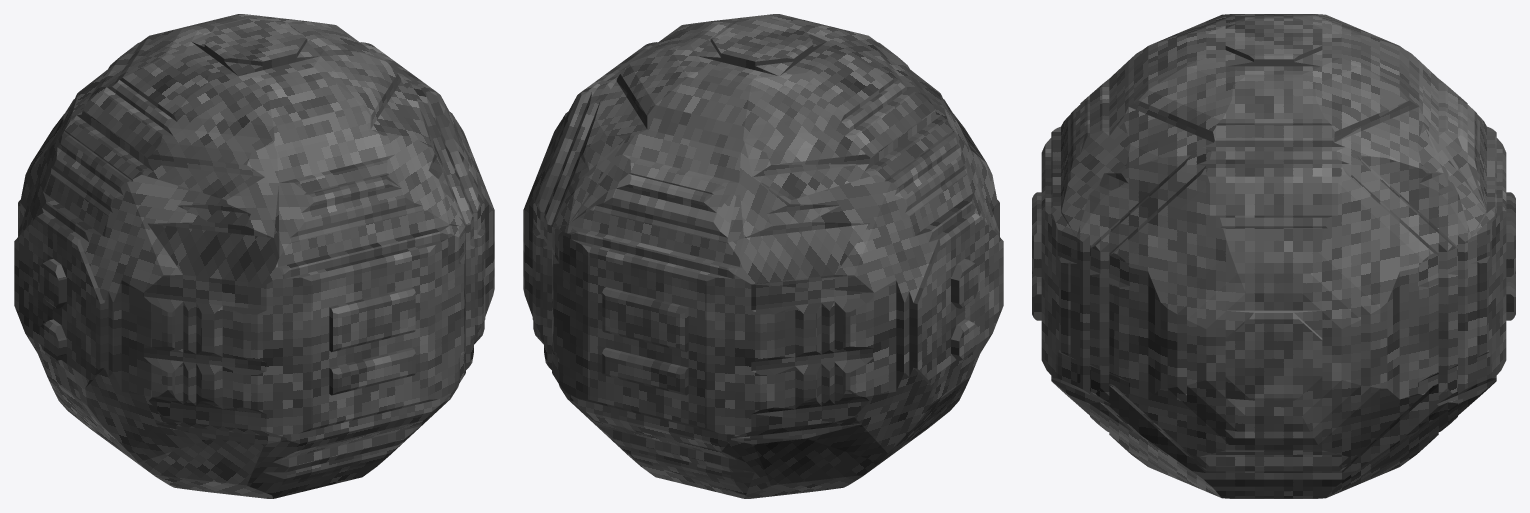
File: large boulder.glb
The picture shows the model from 3 angles, left to right: view 1: azimuth 30°, elevation 25°; view 2: azimuth 150°, elevation 25°; view 3: azimuth 270°, elevation 25°; orthographic projection.
Visible parts, largest first — view 1: large boulder; view 2: large boulder; view 3: large boulder.
Part boxes in pixels (left/top/right/bottom): large boulder: left=14, top=14, right=494, bottom=498; large boulder: left=523, top=14, right=1003, bottom=498; large boulder: left=1032, top=14, right=1515, bottom=498.
Bounding box in the file's own units: 1.56 × 1.56 × 1.56.
1 material, 1 textured.
